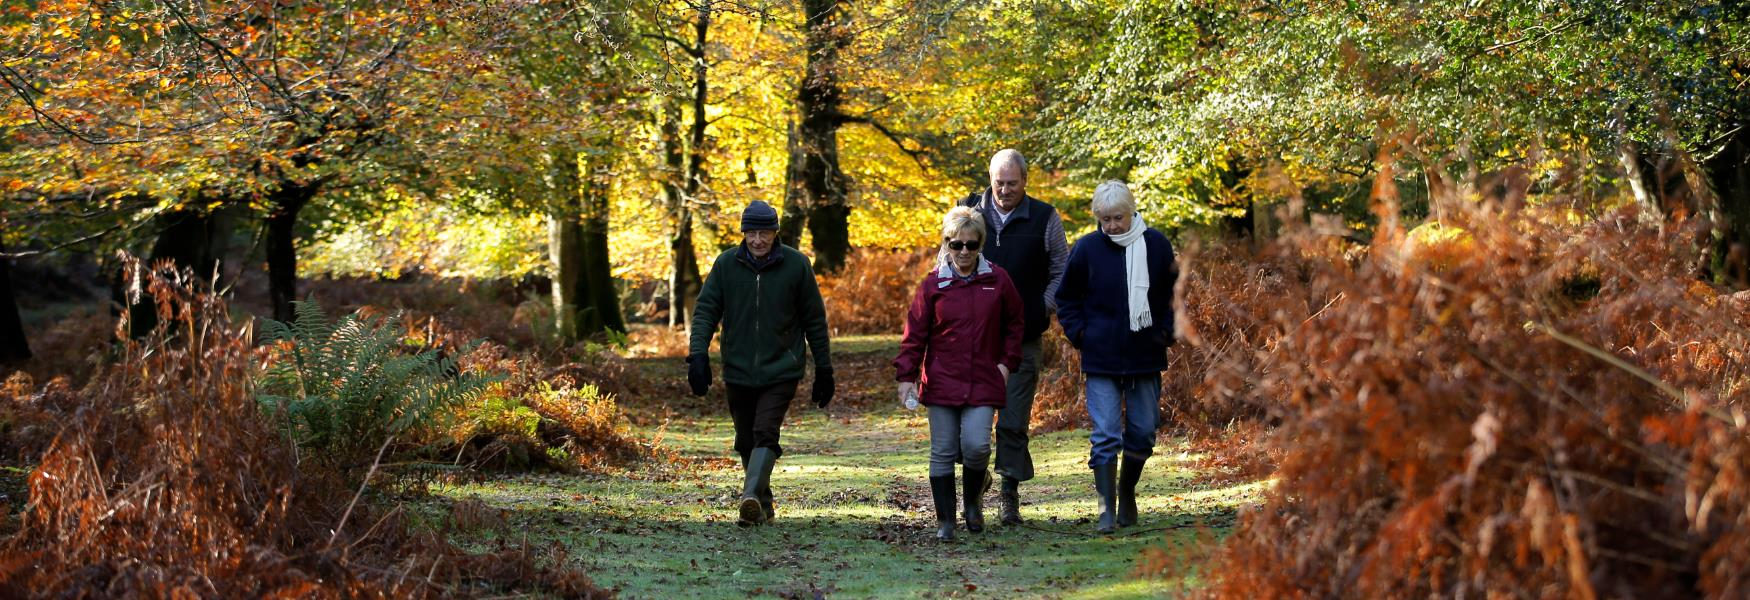feet: (926, 486, 1000, 550), (719, 471, 783, 533), (1089, 480, 1143, 542), (970, 490, 1023, 538)
